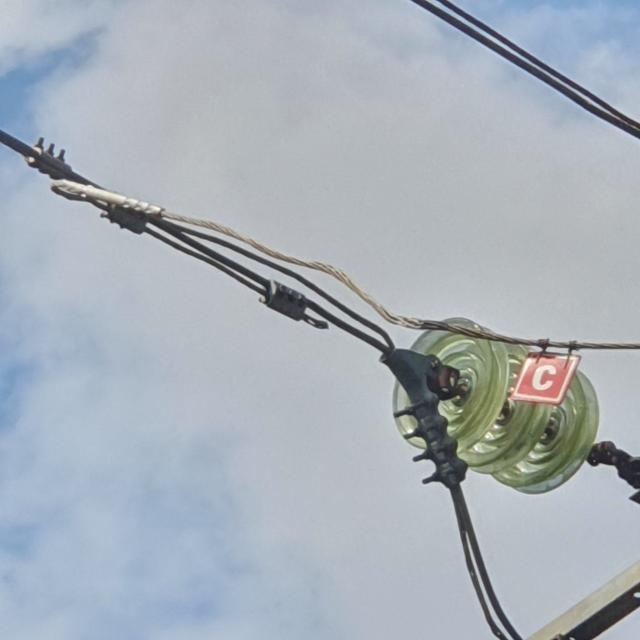wire: (0, 122, 405, 374), (165, 207, 640, 353), (407, 0, 640, 144), (448, 485, 533, 640)
